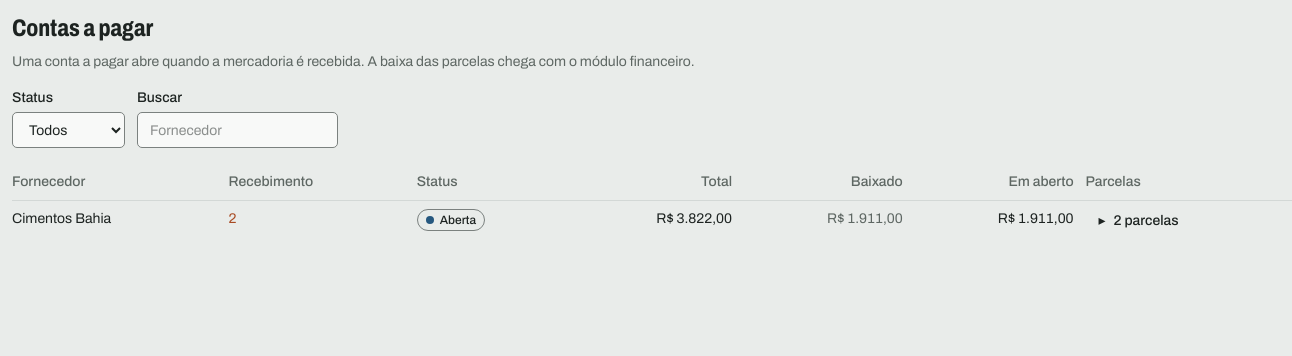
Test case: PayablesScreen › opens the installments of a payable in a row of their own, each as stored
Click the button "▸ 2 parcelas".
click(1139, 221)  # box [1086,205,1192,237]
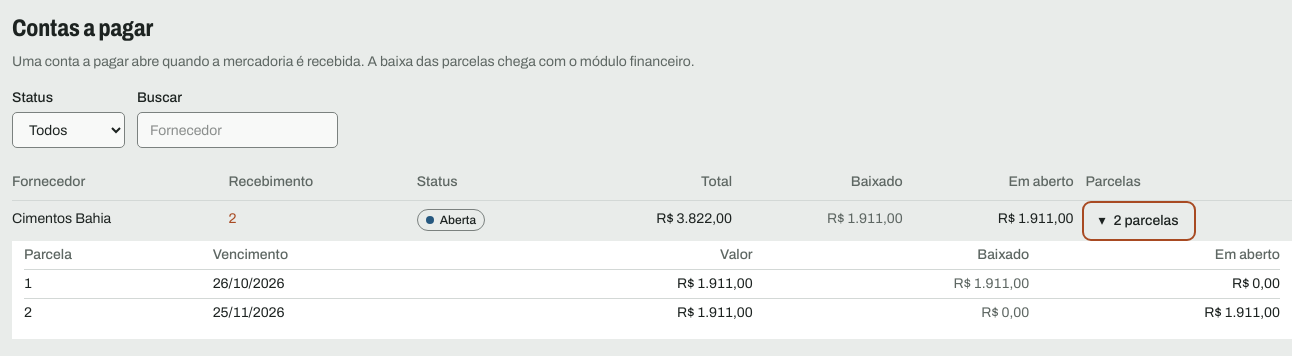
Expected: the button "▾ 2 parcelas" is expanded
Expected: the row "1 26/10/2026 R$ 1.911,00 R$ 1.911,00 R$ 0,00" is shown, [24,270,1280,298]
Expected: the row "2 25/11/2026 R$ 1.911,00 R$ 0,00 R$ 1.911,00" is shown, [24,298,1280,327]
Click the button "▾ 2 parcelas".
click(1139, 221)  # box [1086,205,1192,237]
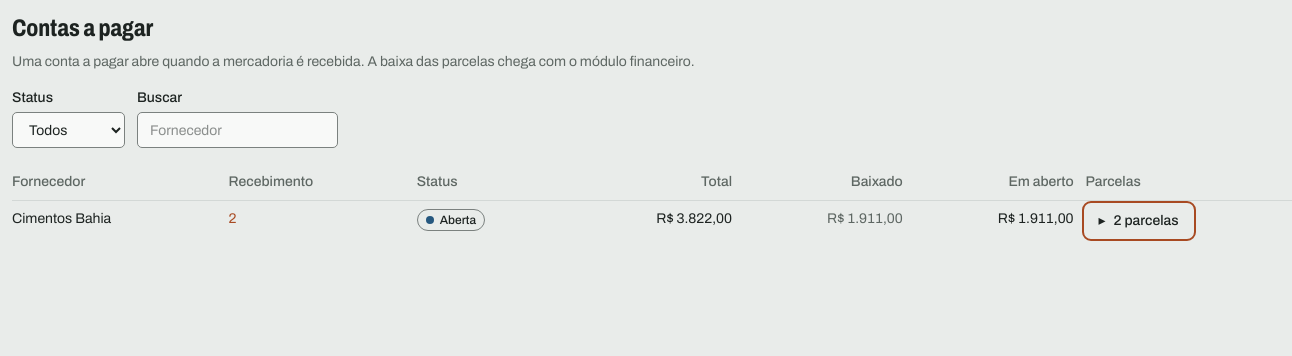
Expected: the button "▸ 2 parcelas" is collapsed, [1086,205,1192,237]
